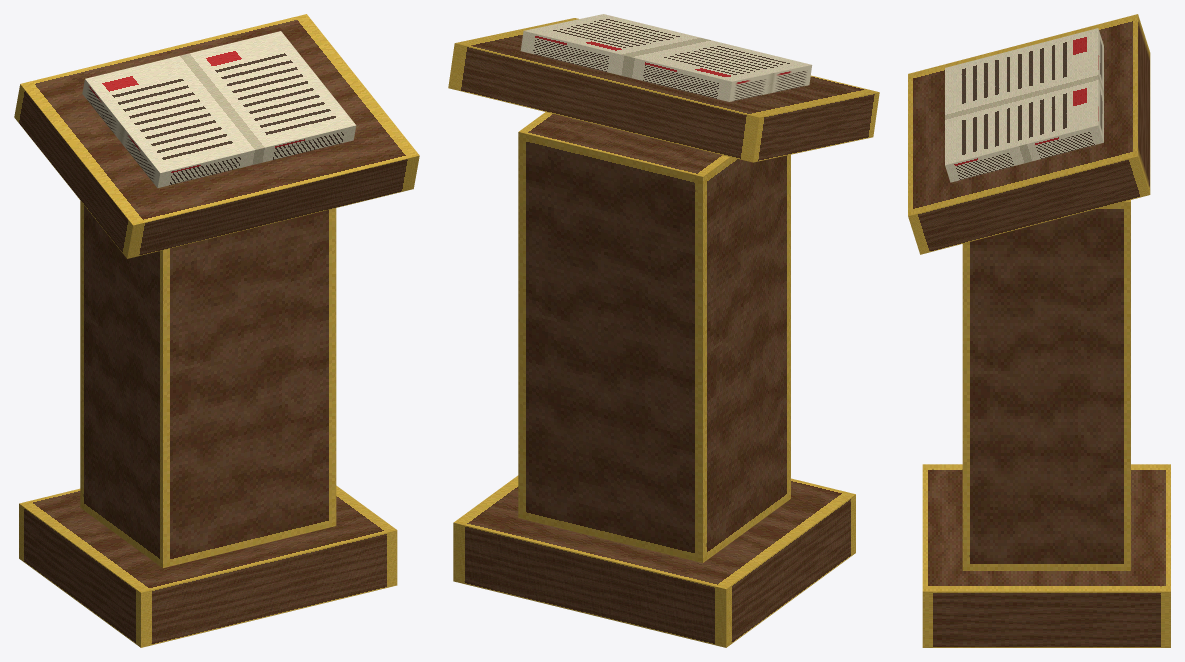
File: pulpito_de_madeira.glb
The picture shows the model from 3 angles, left to right: view 1: azimuth 30°, elevation 25°; view 2: azimuth 150°, elevation 25°; view 3: azimuth 270°, elevation 25°; orthographic projection. The views are drawn at different scales.
Parts seen in each view (by area): view 1: pulpito_de_madeira; view 2: pulpito_de_madeira; view 3: pulpito_de_madeira.
Boxes of the visible parts, x1,y1,x2,y2 form: pulpito_de_madeira: [14, 14, 419, 647]; pulpito_de_madeira: [448, 14, 879, 647]; pulpito_de_madeira: [908, 14, 1170, 647].
Size of the model in its own units: 0.76 by 1.26 by 0.5933.
Materials: 1 (1 with a texture image).
